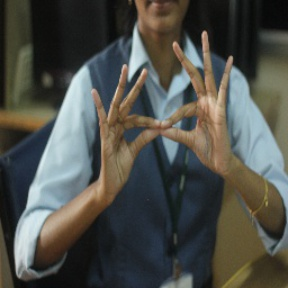B: (111, 96, 214, 165)
